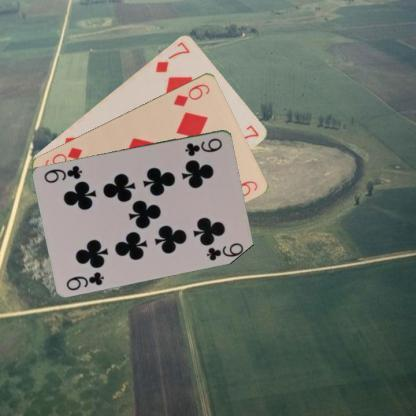6d: (170, 80, 212, 108)
7d: (153, 39, 191, 74)
9c: (64, 269, 106, 292), (182, 135, 224, 157)
